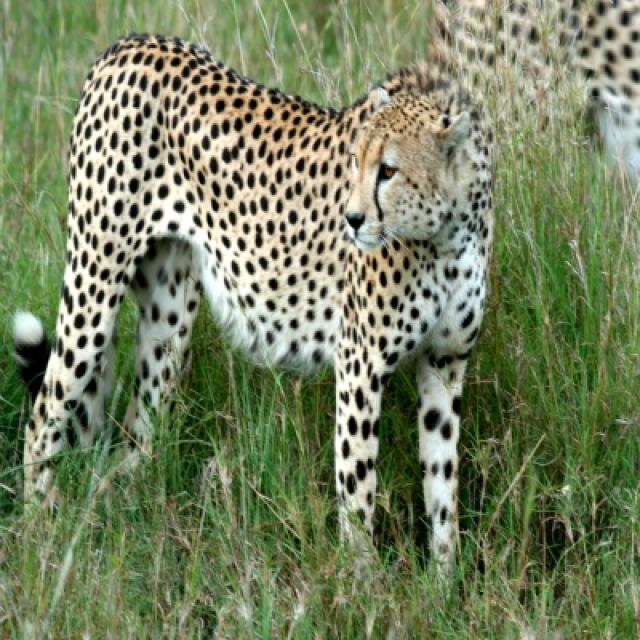Cheetah: (14, 32, 498, 563)
